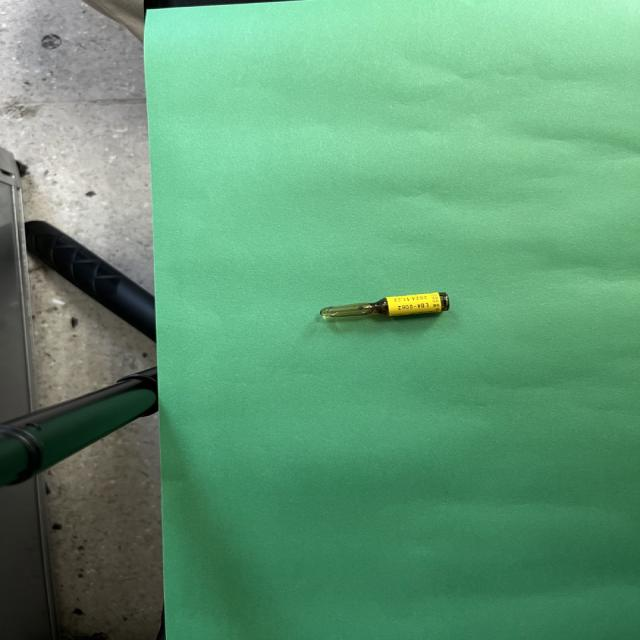Ampoules: (319, 292, 450, 318)
